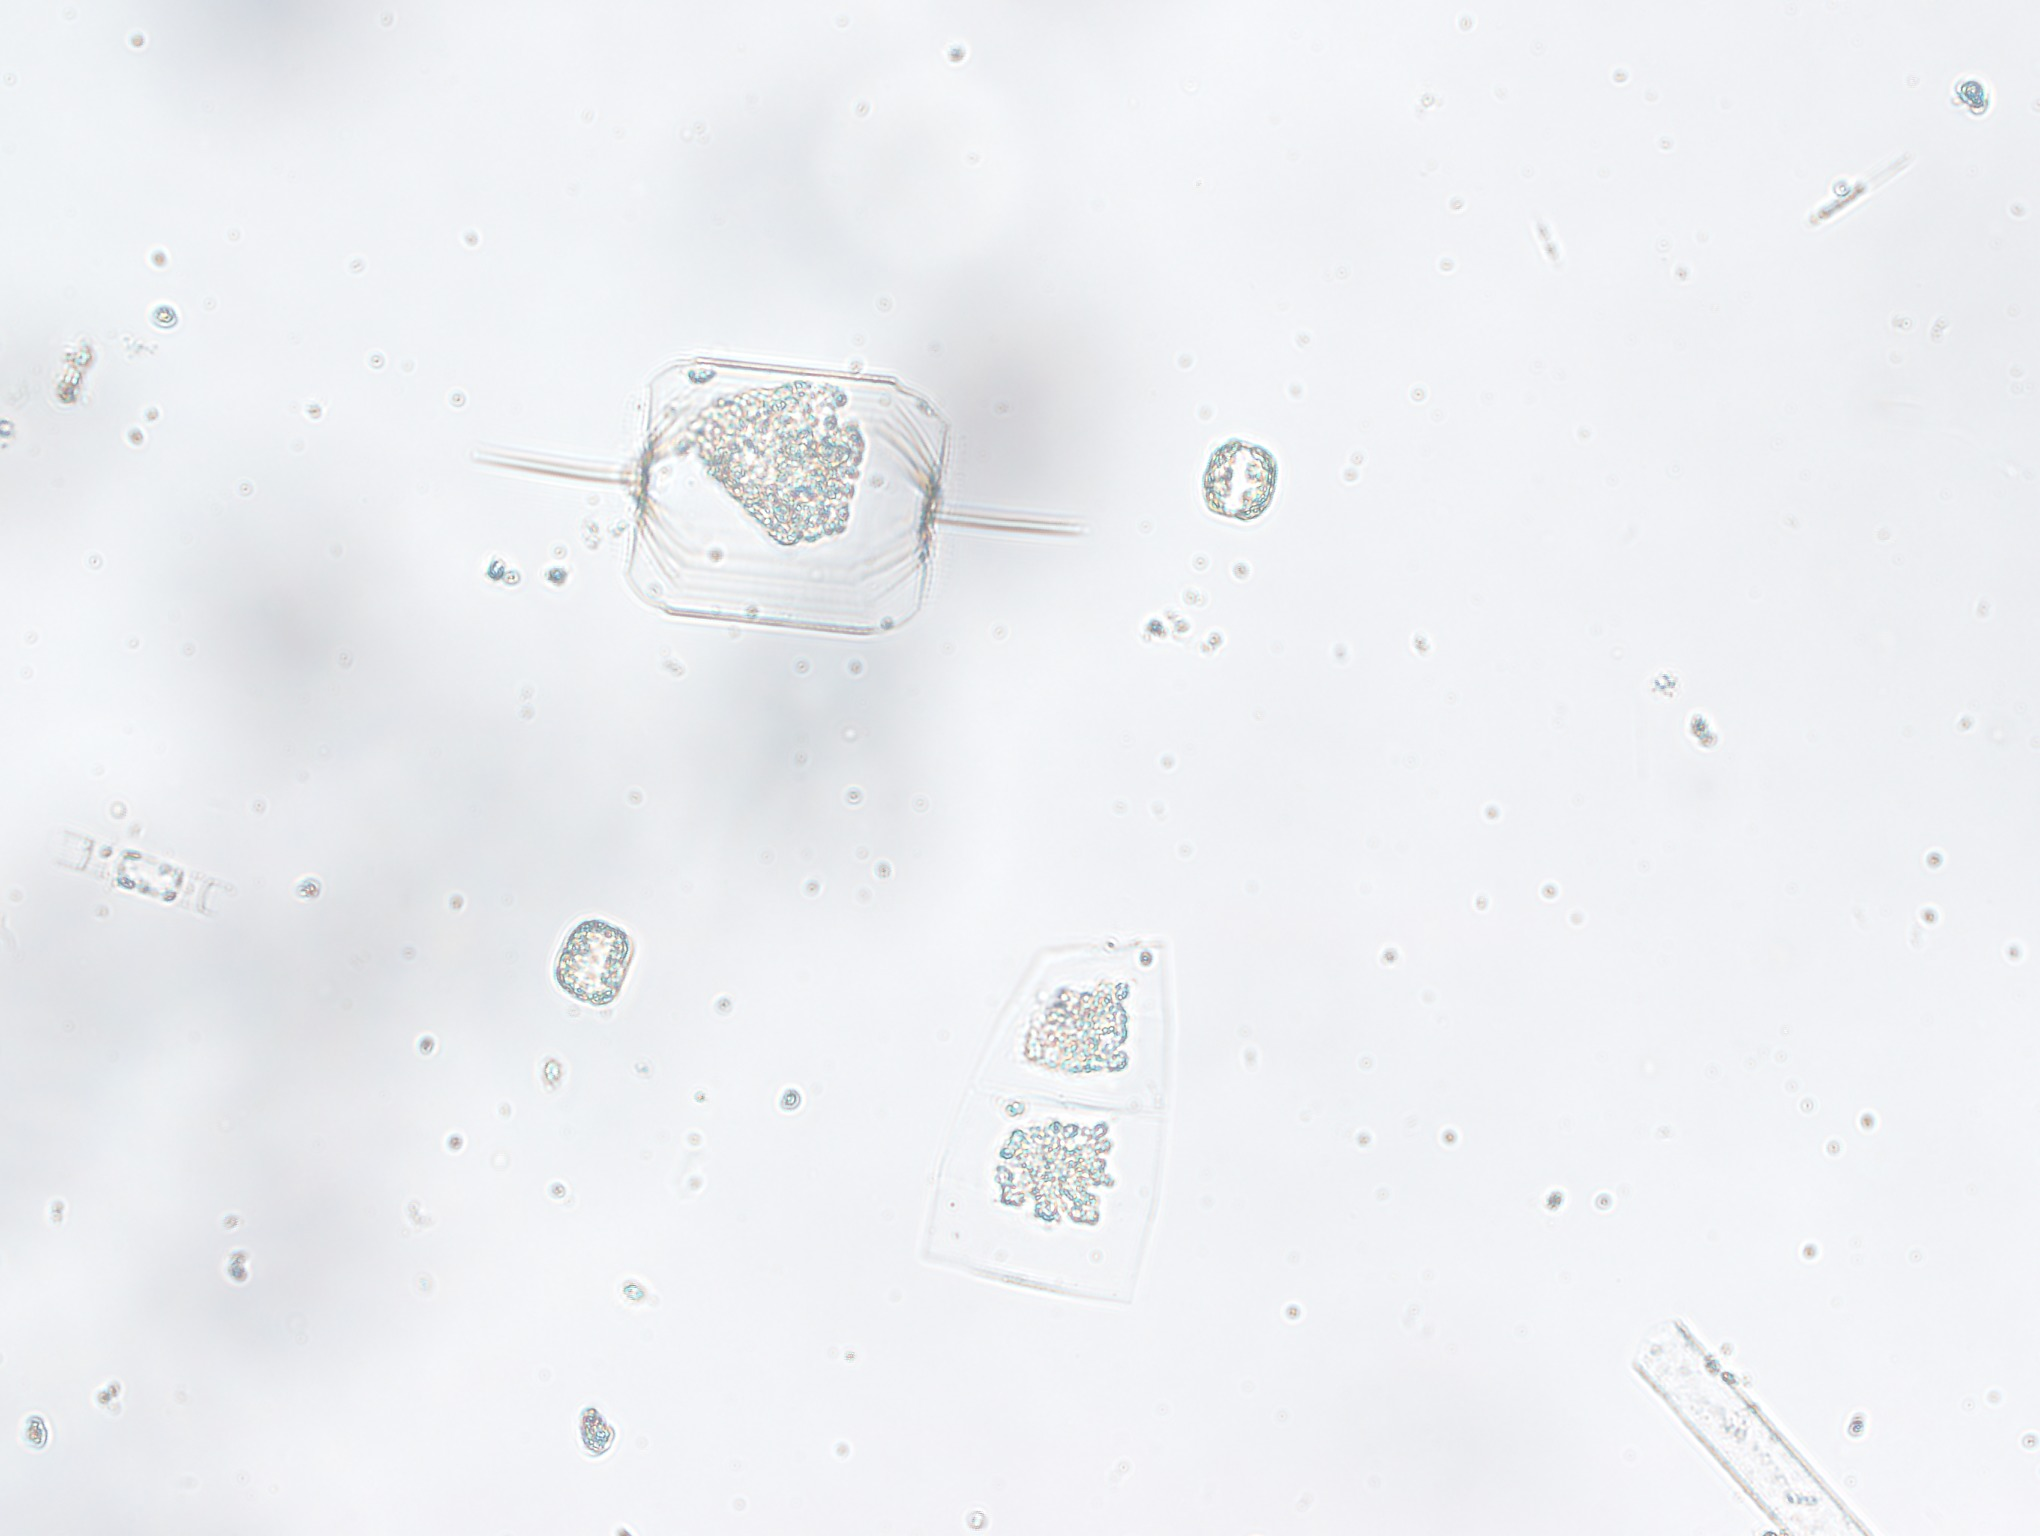ditylum: (448, 316, 1114, 644)
helicotheca: (918, 928, 1218, 1321)
